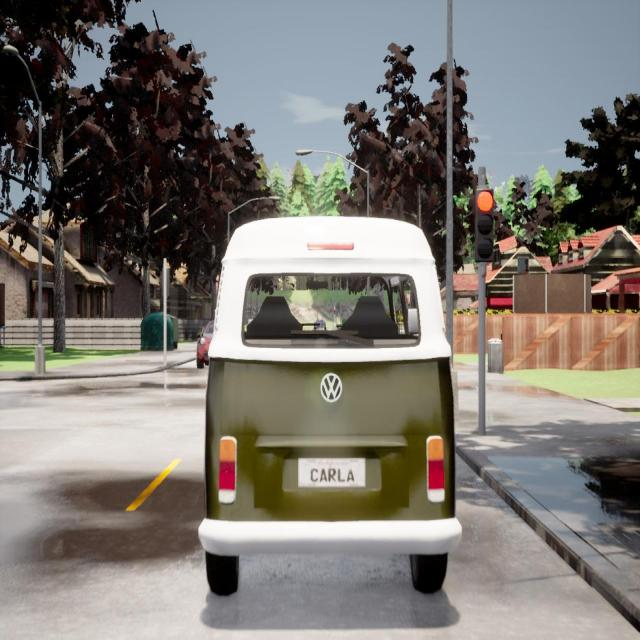Vehicle: (195, 214, 466, 592), (196, 319, 213, 367), (313, 319, 327, 330)
traffic_light: (473, 190, 494, 264), (162, 268, 170, 298), (333, 306, 336, 314)
